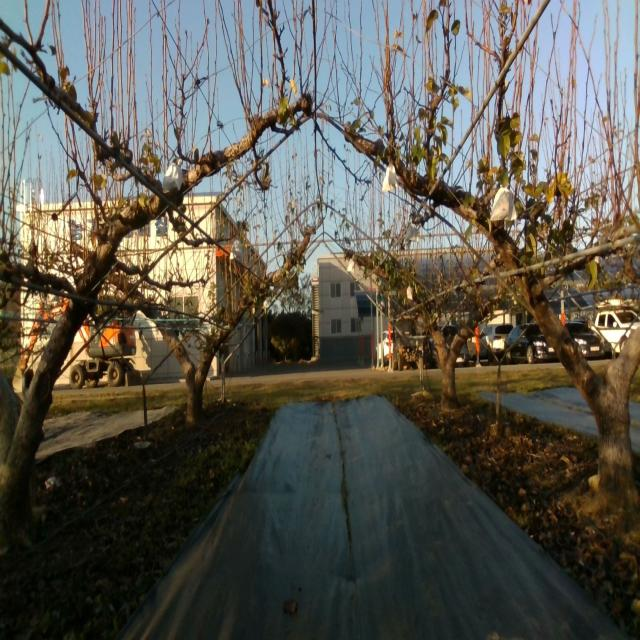pearbags: (489, 186, 518, 222), (162, 162, 184, 192), (382, 161, 398, 192), (228, 239, 245, 261), (405, 222, 420, 245)
